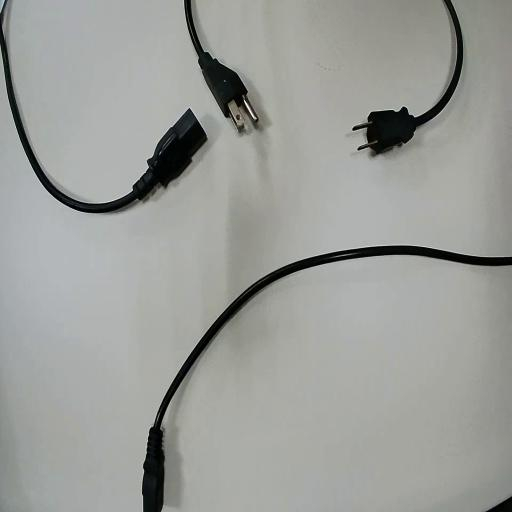wire: (143, 246, 511, 511), (354, 0, 462, 154), (185, 0, 247, 116)
